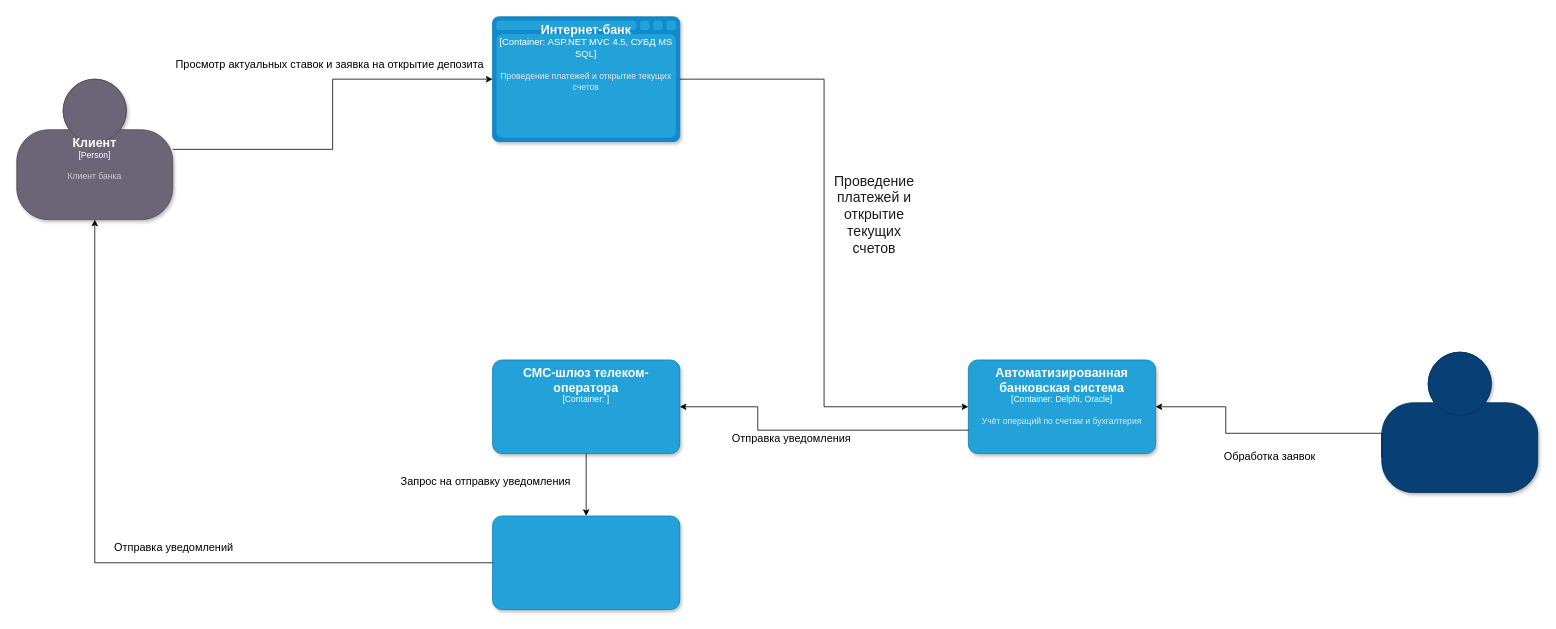
Image size: 1556x629. Some labels were removed from this diagram. The shapes that lost their labels are listed below. From the top down, each one's centre as x and y in pixels, then its label:
At (x=1460, y=423): "Менеджер бэк-офиса [Person] Поддержка внутренних бизнес-процессов".
At (x=586, y=563): "Телеком-оператор [Container: ] Оператор по отправке СМС".
